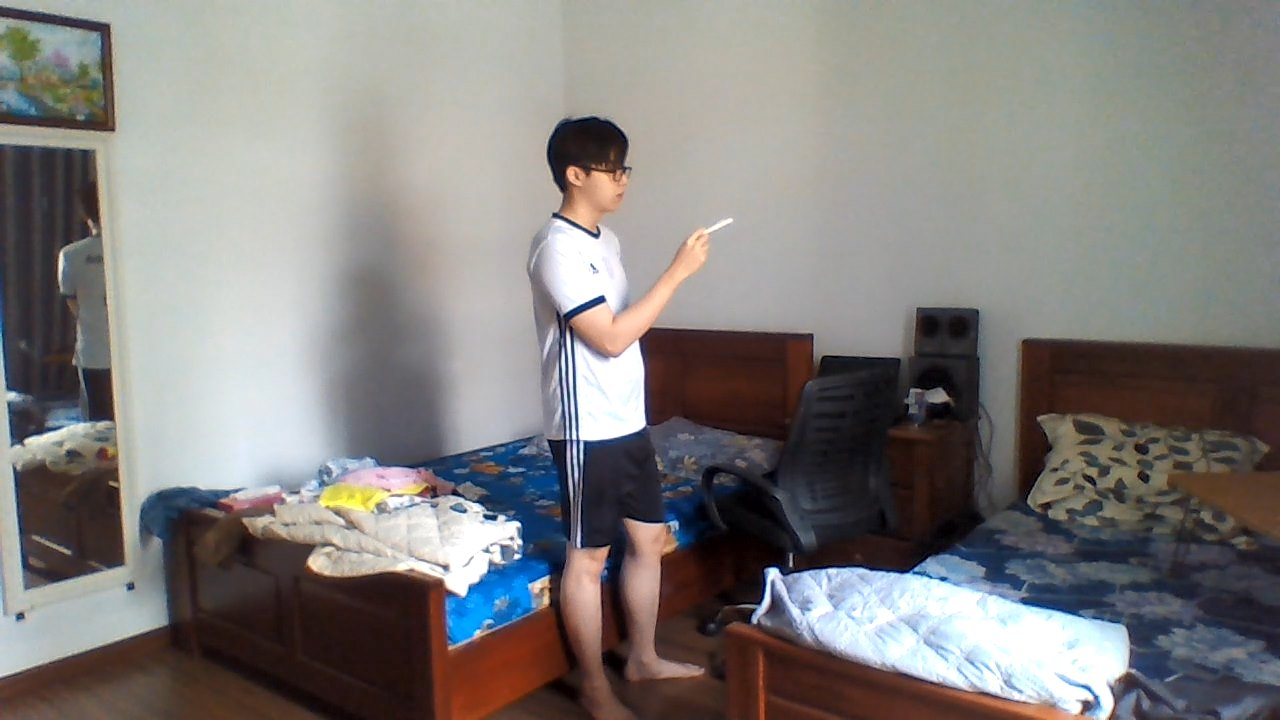cigarette: (701, 219, 733, 234)
person: (517, 103, 719, 711)
